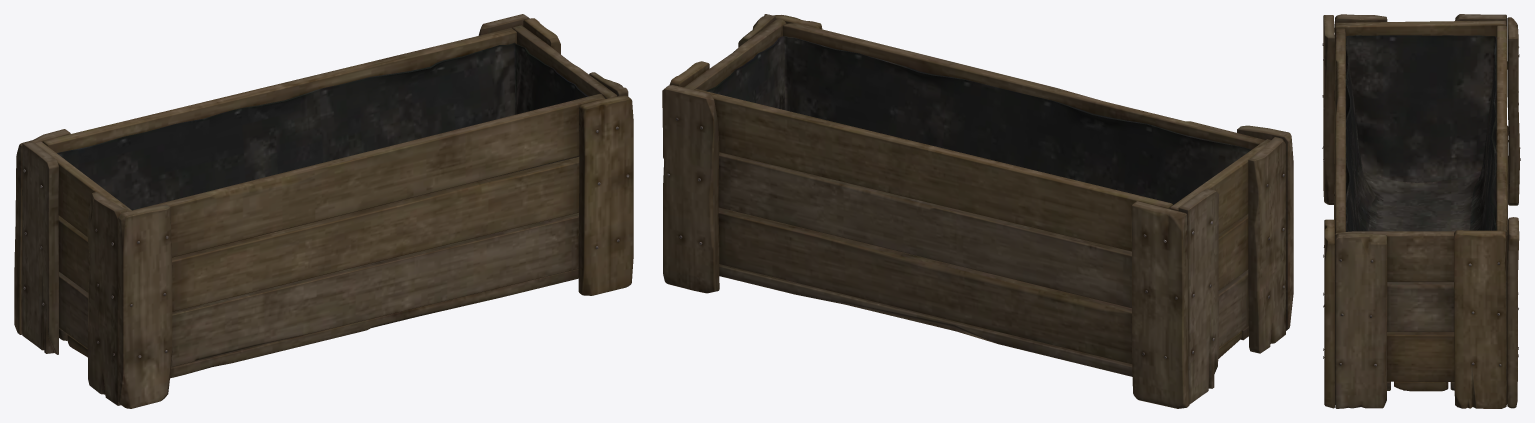
The model's file is planter_box_02.glb.
3 renders of one model, left to right at view 1: azimuth 30°, elevation 25°; view 2: azimuth 150°, elevation 25°; view 3: azimuth 270°, elevation 25°, orthographic. The views are drawn at different scales.
Parts seen in each view (by area): view 1: planter_box_02; view 2: planter_box_02; view 3: planter_box_02.
Boxes of the visible parts, x1,y1,x2,y2 form: planter_box_02: (14, 14, 633, 408); planter_box_02: (662, 14, 1293, 408); planter_box_02: (1322, 14, 1520, 408).
Size of the model in its own units: 1.25 by 0.4534 by 0.4672.
Materials: 1 (1 with a texture image).
